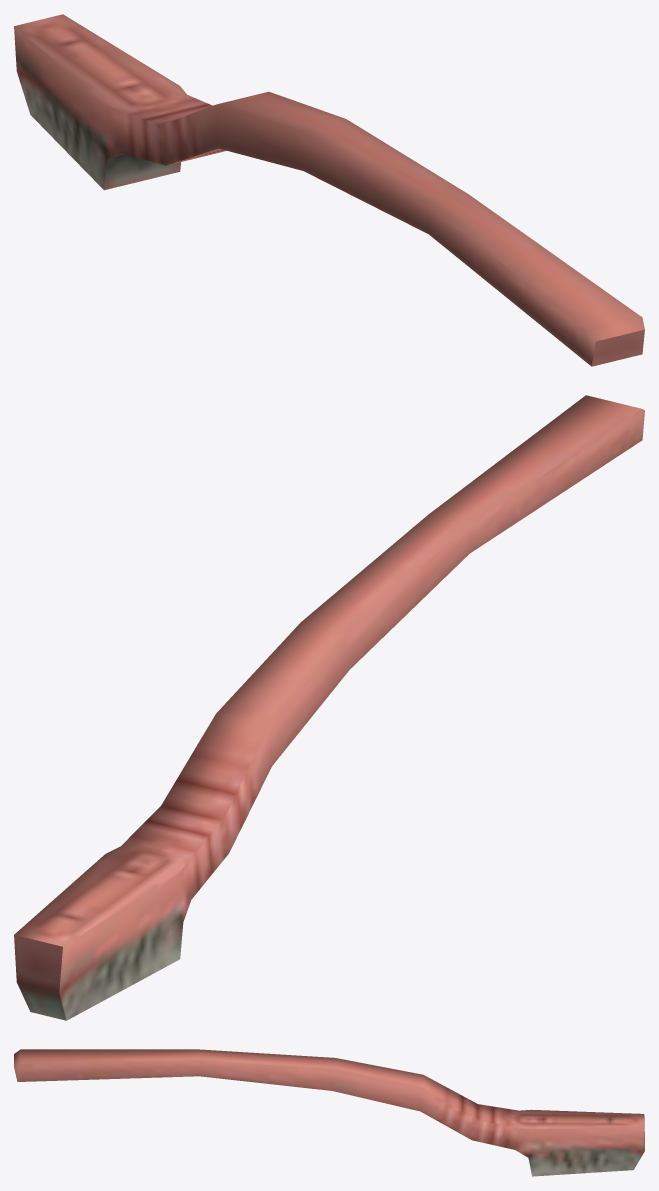
Rendered from toothbrush_red.DAE.
3 renders of one model, top to bottom at view 1: azimuth 30°, elevation 25°; view 2: azimuth 150°, elevation 25°; view 3: azimuth 270°, elevation 25°, orthographic. The views are drawn at different scales.
Visible parts, largest first — view 1: Box001; view 2: Box001; view 3: Box001.
Boxes of the visible parts, box(x1,y1,x2,y2) form: Box001: box(14, 14, 644, 366); Box001: box(14, 395, 644, 1020); Box001: box(14, 1049, 644, 1176).
Bounding box in the file's own units: 0.0259 × 0.0671 × 0.3435.
